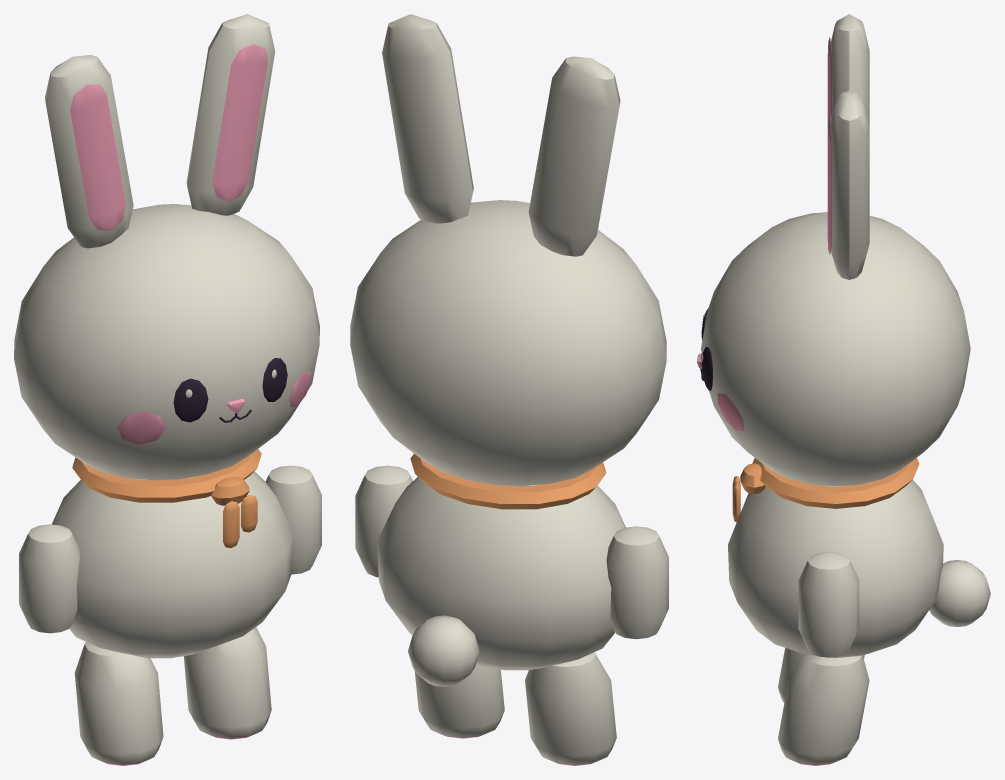
File: player_bunny.glb
The picture shows the model from 3 angles, left to right: view 1: azimuth 30°, elevation 25°; view 2: azimuth 150°, elevation 25°; view 3: azimuth 270°, elevation 25°; orthographic projection. The views are drawn at different scales.
Parts seen in each view (by area): view 1: Head, Body, EarL, EarR, LegR, LegL, ArmR, ArmL; view 2: Head, Body, EarL, EarR, LegR, ArmR, LegL, ArmL; view 3: Head, Body, LegL, EarL, ArmL, EarR, LegR.
Part boxes in pixels (left/top/right/bottom): Head: left=14, top=204, right=319, bottom=480; Body: left=52, top=449, right=293, bottom=658; EarL: left=186, top=14, right=275, bottom=215; EarR: left=45, top=55, right=133, bottom=248; LegR: left=74, top=642, right=163, bottom=765; LegL: left=183, top=627, right=271, bottom=739; ArmR: left=19, top=524, right=80, bottom=633; ArmL: left=265, top=465, right=321, bottom=574; Head: left=350, top=200, right=666, bottom=486; Body: left=377, top=454, right=625, bottom=686; EarL: left=382, top=14, right=473, bottom=223; EarR: left=528, top=56, right=620, bottom=256; LegR: left=525, top=652, right=616, bottom=765; ArmR: left=606, top=526, right=668, bottom=639; LegL: left=414, top=664, right=504, bottom=738; ArmL: left=355, top=465, right=412, bottom=577; Head: left=697, top=212, right=970, bottom=486; Body: left=728, top=458, right=990, bottom=657; LegL: left=778, top=654, right=869, bottom=765; EarL: left=827, top=91, right=869, bottom=279; ArmL: left=798, top=551, right=859, bottom=657; EarR: left=827, top=14, right=869, bottom=127; LegR: left=778, top=648, right=864, bottom=702.
Bounding box in the file's own units: 0.49 × 1.1 × 0.4358.
